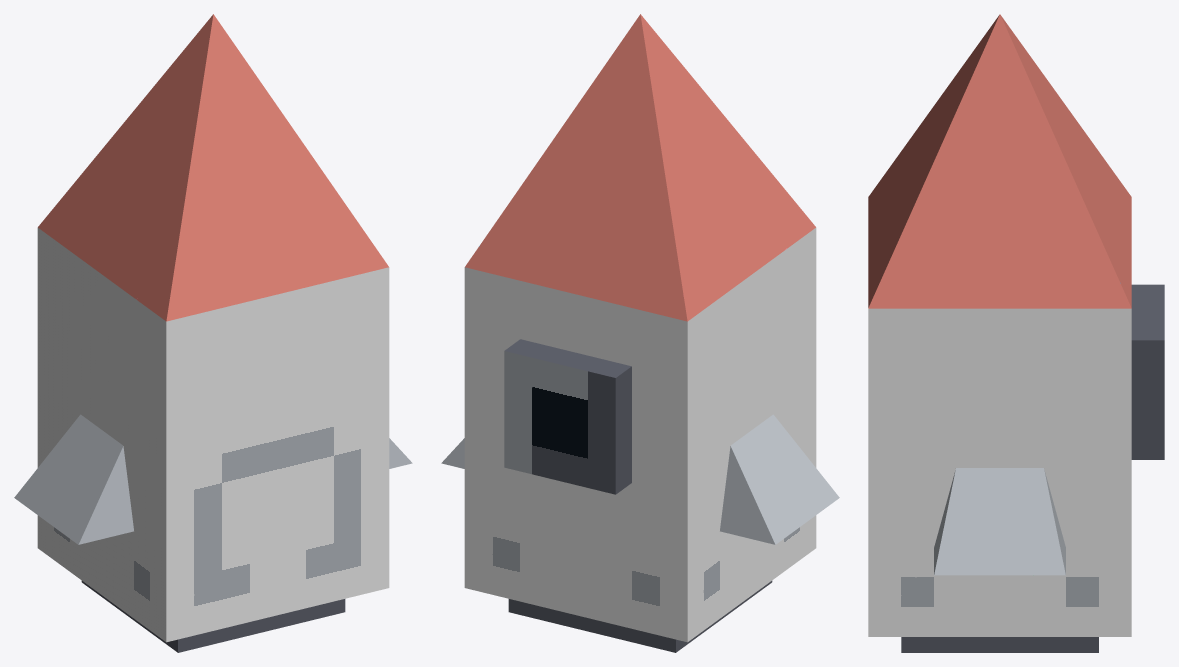
The model's file is rocket.gltf.
The picture shows the model from 3 angles, left to right: view 1: azimuth 30°, elevation 25°; view 2: azimuth 150°, elevation 25°; view 3: azimuth 270°, elevation 25°; orthographic projection. The views are drawn at different scales.
Visible parts, largest first — view 1: cube (×2), pyramid (×2); view 2: cube (×3), pyramid (×2); view 3: cube (×3), pyramid (×2).
Boxes of the visible parts, <box> form: cube (×2): <box>37,228,389,652</box>; pyramid (×2): <box>14,14,412,544</box>; cube (×3): <box>464,228,816,652</box>; pyramid (×2): <box>441,14,839,544</box>; cube (×3): <box>868,284,1164,652</box>; pyramid (×2): <box>868,14,1131,575</box>.
Size of the model in its own units: 0.75 by 1.25 by 0.5625.
1 material, 1 textured.
